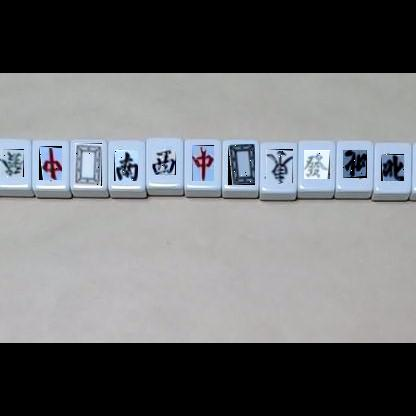1z: (266, 149, 293, 183)
2z: (114, 150, 138, 181)
3z: (152, 149, 176, 175)
4z: (343, 150, 367, 178), (381, 154, 404, 181)
5z: (75, 143, 102, 186), (228, 144, 255, 185)
6z: (304, 150, 330, 179), (1, 149, 24, 177)
7z: (192, 145, 214, 181), (39, 146, 62, 180)
